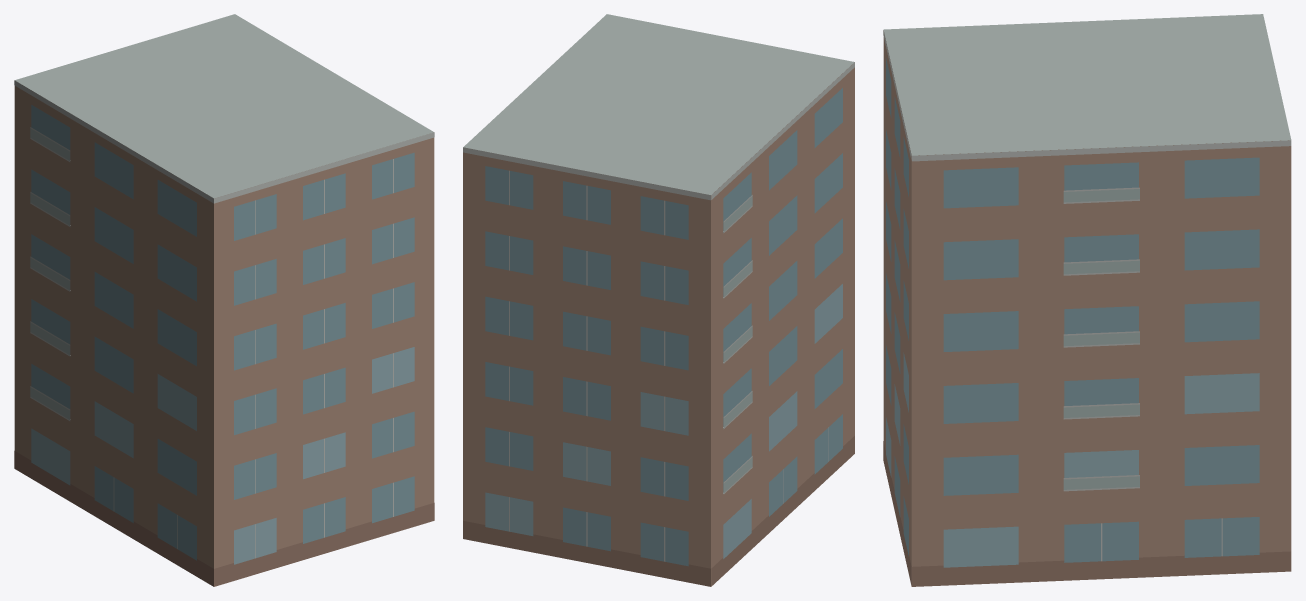
The model's file is survey-upis-32553085.glb.
3 views of the same model, side by side, from view 1: azimuth 30°, elevation 25°; view 2: azimuth 150°, elevation 25°; view 3: azimuth 270°, elevation 25° (orthographic). The views are drawn at different scales.
Visible parts, largest first — view 1: survey-upis-32553085.tmp; view 2: survey-upis-32553085.tmp; view 3: survey-upis-32553085.tmp.
Boxes of the visible parts, <box> form: survey-upis-32553085.tmp: <box>14,14,434,586</box>; survey-upis-32553085.tmp: <box>463,14,854,586</box>; survey-upis-32553085.tmp: <box>883,14,1291,586</box>.
Bounding box in the file's own units: 12.91 × 18.3 × 15.7.
